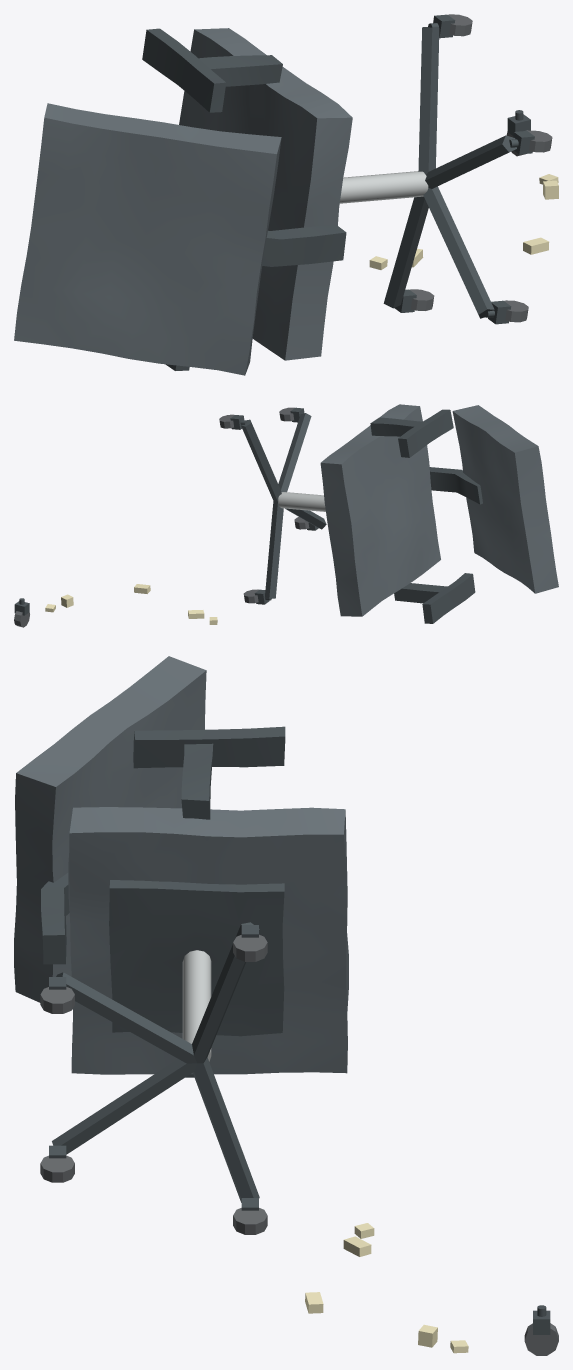
File: office_chair_broken.fbx
The picture shows the model from 3 angles, top to bottom: view 1: azimuth 30°, elevation 25°; view 2: azimuth 150°, elevation 25°; view 3: azimuth 270°, elevation 25°; orthographic projection. The views are drawn at different scales.
Parts seen in each view (by area): view 1: office_chair_broken, office_chair_broken_debris; view 2: office_chair_broken, office_chair_broken_debris; view 3: office_chair_broken, office_chair_broken_debris.
Boxes of the visible parts, x1,y1,x2,y2 form: office_chair_broken: (14,14,552,375); office_chair_broken_debris: (369,110,558,269); office_chair_broken: (219,404,558,623); office_chair_broken_debris: (14,584,217,627); office_chair_broken: (14,656,348,1234); office_chair_broken_debris: (305,1223,558,1355).
Size of the model in its own units: 152 by 70 by 94.88.
